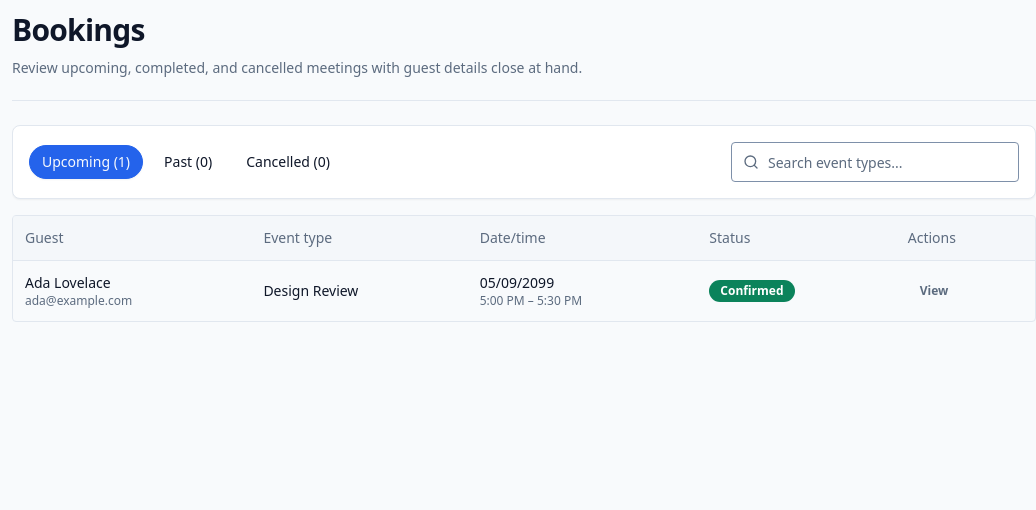
Scenario: BookingsClient › distinguishes a filtered miss from a genuinely empty booking category
In the field named "Filter by event type": (875, 162) [731,142,1019,182], type "Unrelated event"
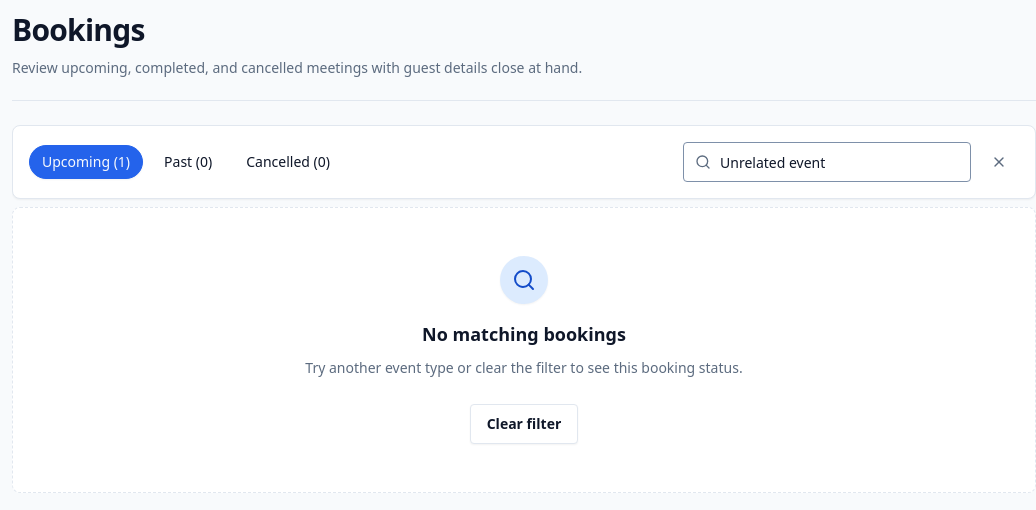
Now the heading "No matching bookings" is shown, box [422,320,626,348]
Click the button "Clear filter": (524, 424) [470,404,578,444]
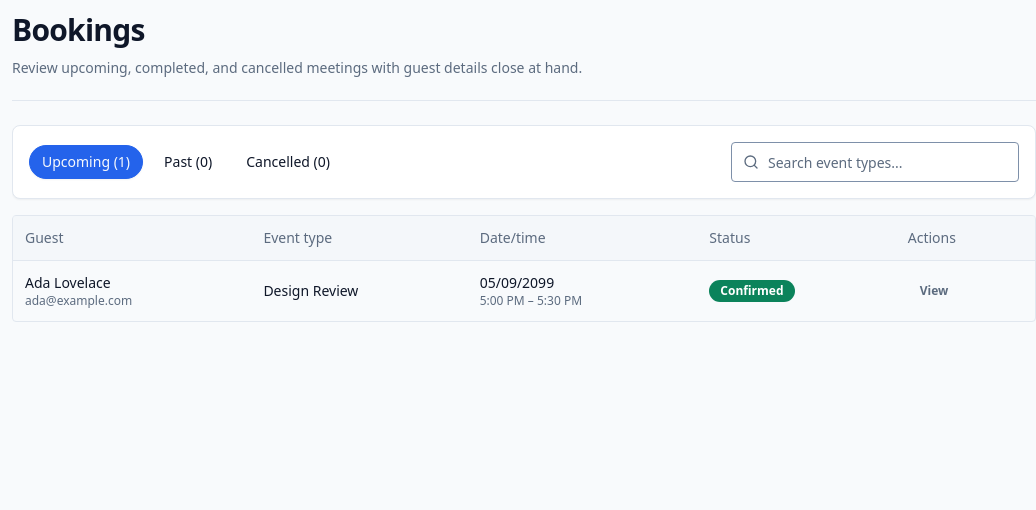
Now the text "Ada Lovelace" is shown, box [25,273,111,292]
Now the heading "No matching bookings" is gone
